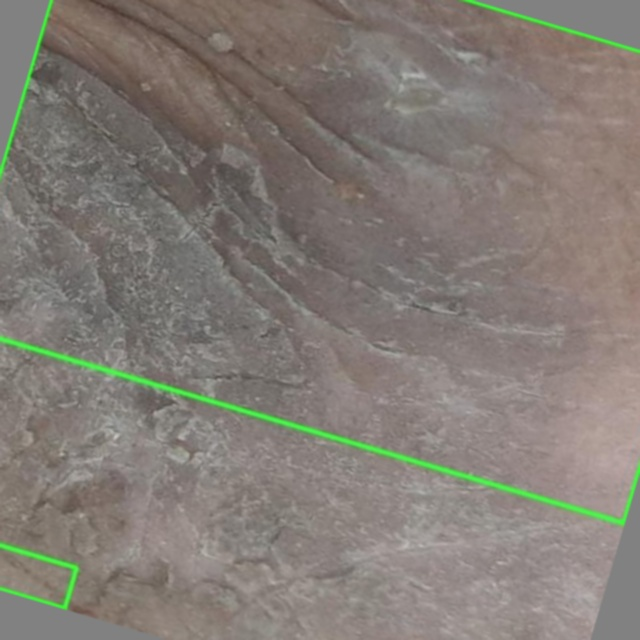Eczema: (0, 0, 639, 523)
